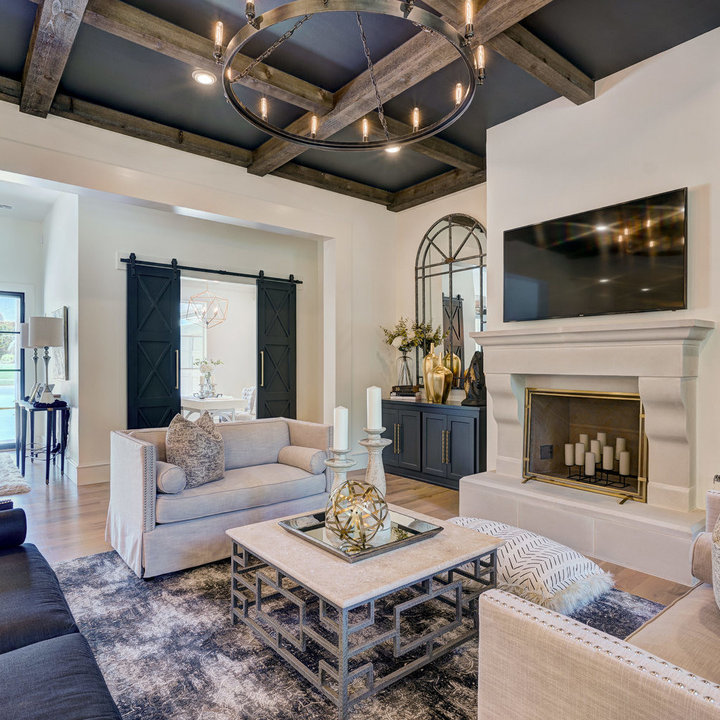TV: (497, 183, 692, 324)
chair: (476, 484, 720, 720)
flower vase: (380, 311, 436, 397)
sofa: (93, 412, 343, 583), (0, 492, 126, 718)
table: (221, 493, 502, 720)
table lamp: (26, 311, 67, 403), (18, 323, 40, 402)
